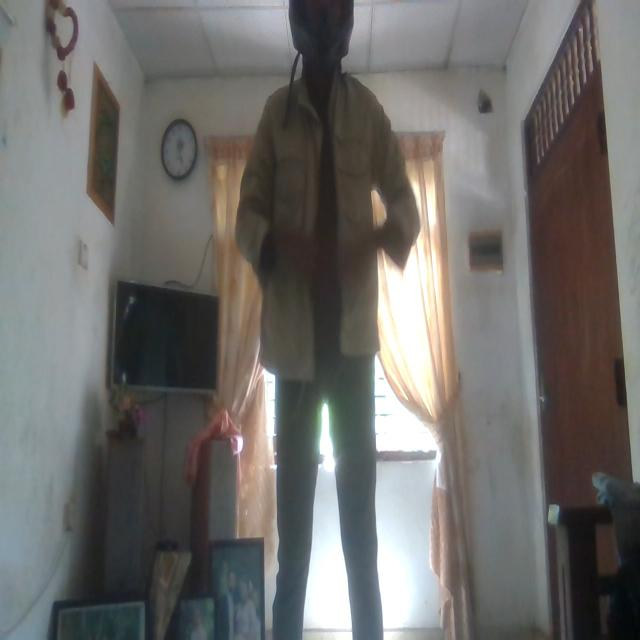Helmet_Wearer: (275, 0, 374, 69)
Jacket_Wearer: (230, 80, 424, 352)
Person: (243, 0, 414, 640)
